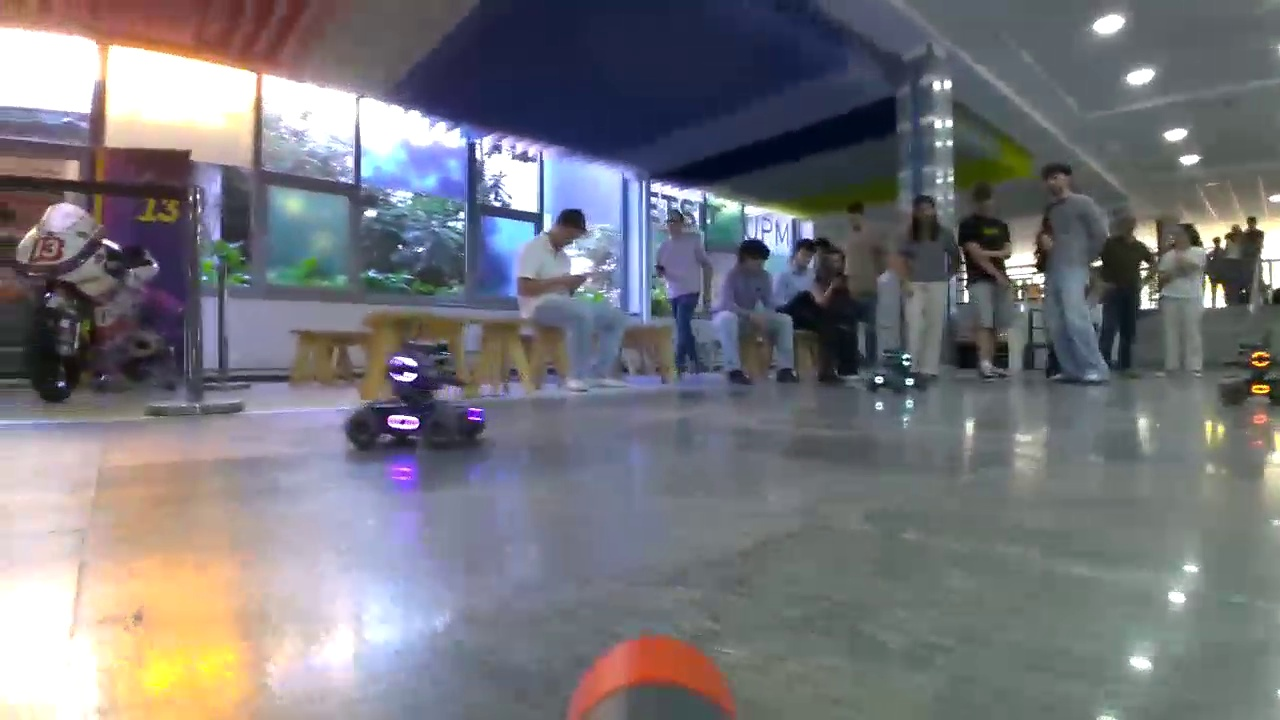robot: (345, 352, 493, 450), (1215, 340, 1280, 400), (868, 352, 918, 388)
